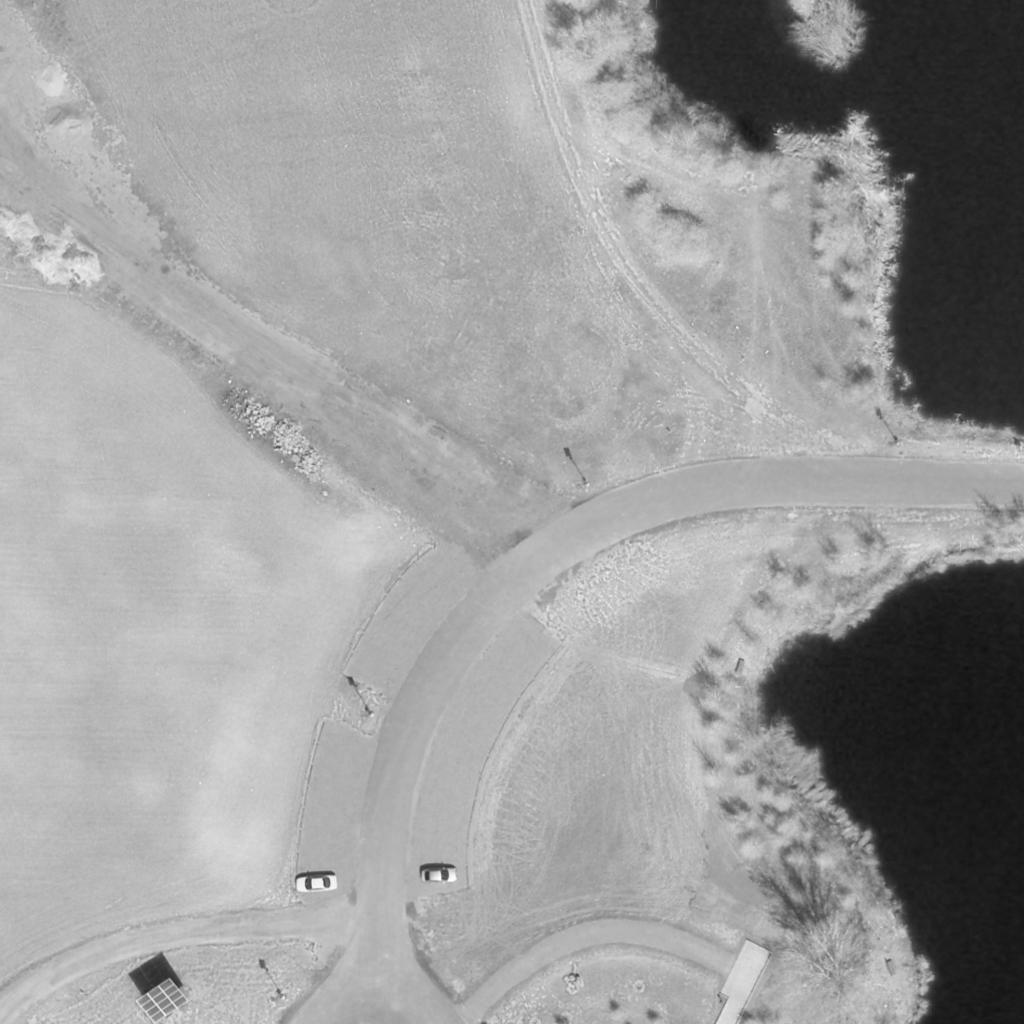vehicle: (295, 875, 337, 893), (420, 867, 460, 883)
